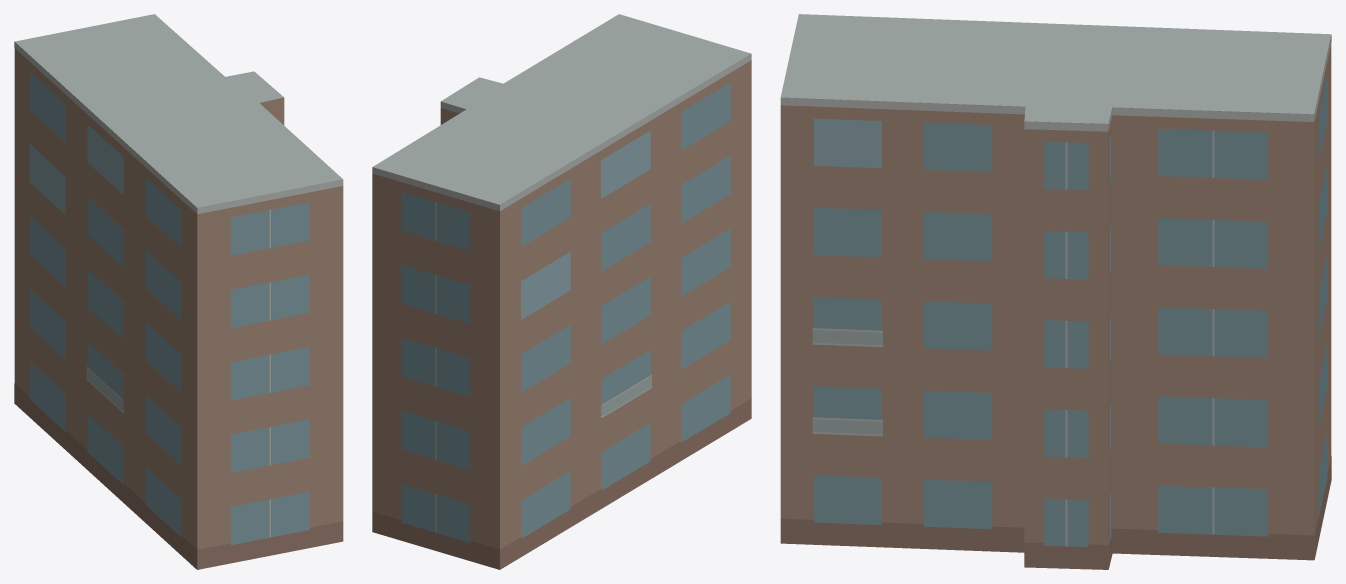
The model's file is survey-upis-32755092.glb.
3 renders of one model, left to right at view 1: azimuth 30°, elevation 25°; view 2: azimuth 150°, elevation 25°; view 3: azimuth 270°, elevation 25°, orthographic. The views are drawn at different scales.
Parts seen in each view (by area): view 1: survey-upis-32755092.tmp; view 2: survey-upis-32755092.tmp; view 3: survey-upis-32755092.tmp.
Boxes of the visible parts, x1=… form: survey-upis-32755092.tmp: x1=14, y1=14, x2=343, y2=569; survey-upis-32755092.tmp: x1=372, y1=14, x2=751, y2=569; survey-upis-32755092.tmp: x1=780, y1=14, x2=1331, y2=569.
Bounding box in the file's own units: 7.34 × 13.88 × 15.55.
